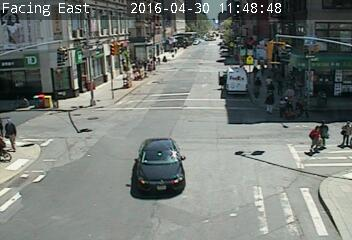neg: (65, 171, 88, 201), (312, 34, 333, 61), (245, 146, 265, 173), (36, 183, 55, 209), (280, 35, 299, 60), (124, 188, 143, 212), (55, 139, 73, 163), (56, 102, 73, 124), (185, 71, 201, 93), (178, 186, 194, 207), (126, 100, 141, 120), (220, 53, 235, 73), (272, 137, 287, 156), (156, 151, 170, 170), (24, 14, 38, 33), (228, 124, 242, 142), (153, 186, 167, 204), (245, 22, 258, 41), (157, 88, 171, 105), (103, 55, 116, 73), (160, 44, 173, 61), (313, 175, 326, 192), (278, 182, 290, 198), (45, 51, 57, 67), (90, 122, 102, 137), (190, 38, 201, 54), (139, 47, 150, 62), (223, 183, 234, 198), (211, 137, 222, 151), (113, 168, 123, 181), (113, 134, 123, 146), (36, 80, 45, 93), (197, 104, 206, 116)
pos: (274, 75, 305, 117), (312, 115, 340, 153), (304, 123, 328, 155), (260, 91, 279, 117), (335, 118, 351, 147), (249, 77, 265, 98), (262, 76, 276, 94), (256, 61, 267, 76), (253, 64, 262, 76)
